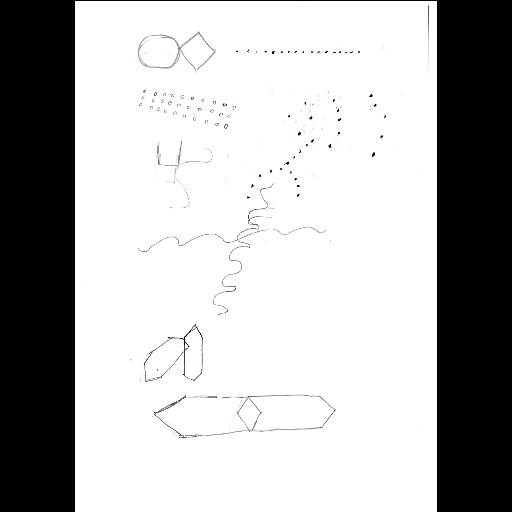shape-1: (135, 24, 219, 82)
shape-2: (233, 37, 365, 63)
shape-3: (136, 83, 238, 133)
shape-4: (282, 84, 392, 158)
shape-5: (154, 134, 214, 212)
shape-6: (244, 138, 310, 202)
shape-7: (130, 181, 330, 321)
shape-8: (137, 320, 213, 388)
shape-9: (150, 392, 340, 442)
